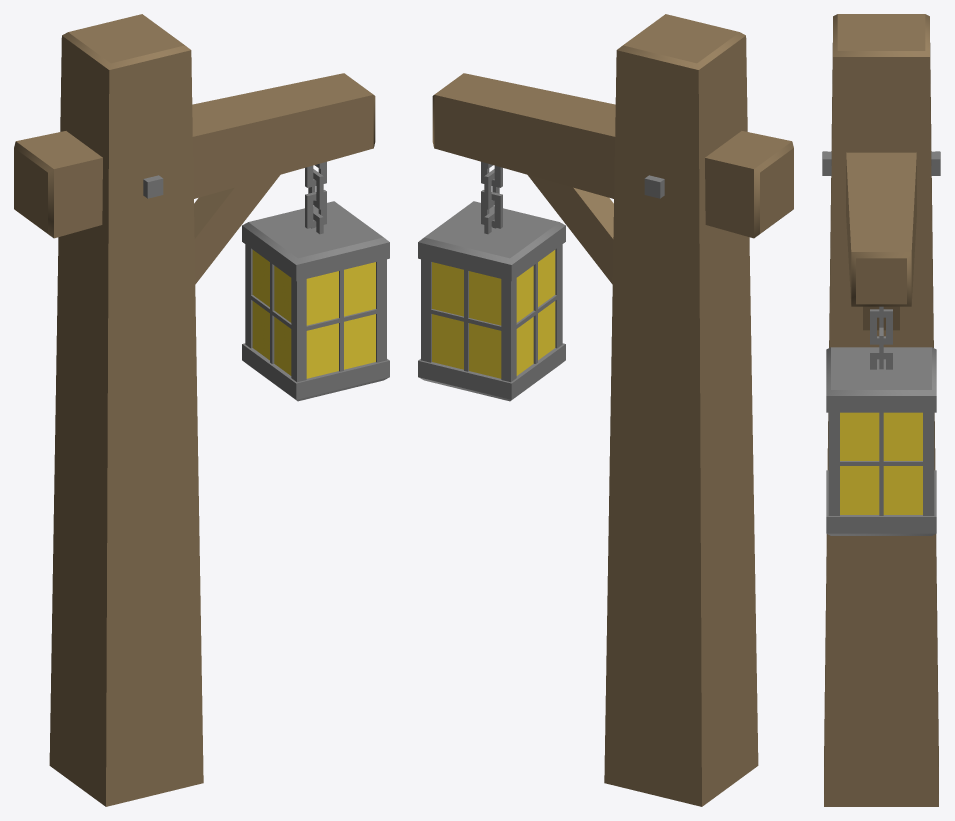
The model's file is lantern.glb.
3 renders of one model, left to right at view 1: azimuth 30°, elevation 25°; view 2: azimuth 150°, elevation 25°; view 3: azimuth 270°, elevation 25°, orthographic.
Visible parts, largest first — view 1: Mesh1 ElwFor_Lantern_C01_1 Model, Mesh3 ElwFor_Lantern_C03_1 ElwFor_Lantern_C02_1 Model; view 2: Mesh1 ElwFor_Lantern_C01_1 Model, Mesh3 ElwFor_Lantern_C03_1 ElwFor_Lantern_C02_1 Model; view 3: Mesh1 ElwFor_Lantern_C01_1 Model, Mesh3 ElwFor_Lantern_C03_1 ElwFor_Lantern_C02_1 Model, Mesh7 ElwFor_Lantern_C04_3 ElwFor_Lantern_C02_1 Model, Mesh5 ElwFor_Lantern_C05_1 ElwFor_Lantern_C02_1 Model, Mesh2 ElwFor_Lantern_C01_1 Model.
Boxes of the visible parts, x1,y1,x2,y2 form: Mesh1 ElwFor_Lantern_C01_1 Model: (14,14,375,806); Mesh3 ElwFor_Lantern_C03_1 ElwFor_Lantern_C02_1 Model: (242,201,389,401); Mesh1 ElwFor_Lantern_C01_1 Model: (432,14,793,806); Mesh3 ElwFor_Lantern_C03_1 ElwFor_Lantern_C02_1 Model: (418,201,565,401); Mesh1 ElwFor_Lantern_C01_1 Model: (822,14,938,806); Mesh3 ElwFor_Lantern_C03_1 ElwFor_Lantern_C02_1 Model: (826,347,936,535); Mesh7 ElwFor_Lantern_C04_3 ElwFor_Lantern_C02_1 Model: (870,309,892,344); Mesh5 ElwFor_Lantern_C05_1 ElwFor_Lantern_C02_1 Model: (870,351,892,369); Mesh2 ElwFor_Lantern_C01_1 Model: (931,151,940,175).
Size of the model in its own units: 85 by 180 by 25.74.
